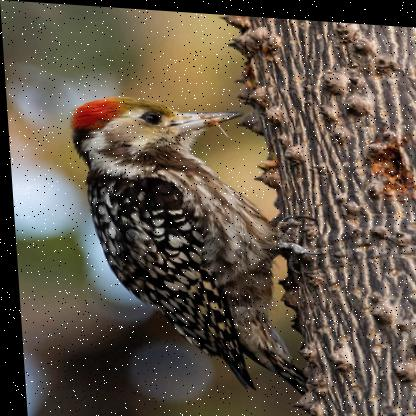Burung: (67, 94, 325, 386)
